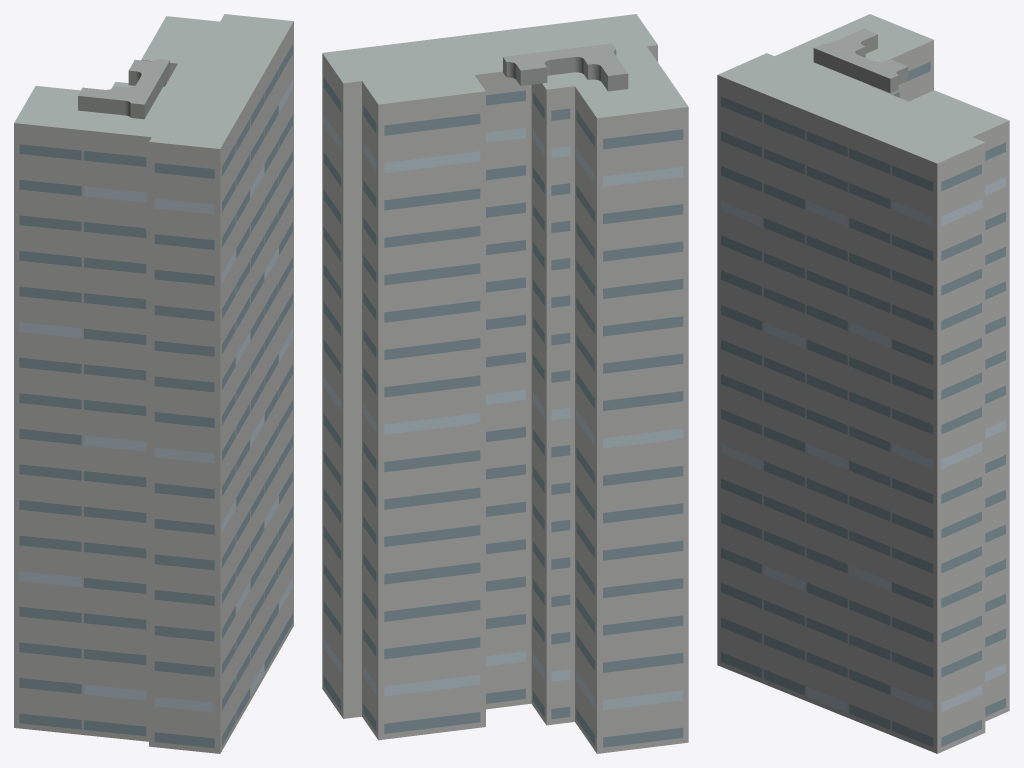
Rendered from fallback-raemian-blesstige-215.glb.
3 views of the same model, side by side, from view 1: azimuth 30°, elevation 25°; view 2: azimuth 150°, elevation 25°; view 3: azimuth 270°, elevation 25° (orthographic). The views are drawn at different scales.
Visible parts, largest first — view 1: fallback-raemian-blesstige-215; view 2: fallback-raemian-blesstige-215; view 3: fallback-raemian-blesstige-215.
Boxes of the visible parts, x1,y1,x2,y2 form: fallback-raemian-blesstige-215: (14, 14, 293, 753); fallback-raemian-blesstige-215: (322, 14, 688, 753); fallback-raemian-blesstige-215: (717, 14, 1009, 753).
Bounding box in the file's own units: 53.61 × 101 × 44.25.
